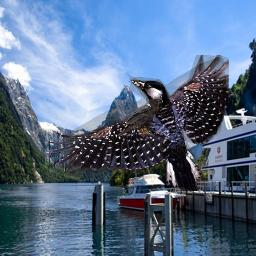Crow: (117, 97, 163, 138)
Woodpecker: (45, 55, 229, 191)
